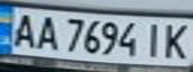4: (118, 19, 142, 57)
6: (78, 17, 103, 55)
7: (60, 15, 84, 53)
9: (100, 19, 121, 56)
A: (6, 10, 39, 48), (30, 12, 60, 51)
I: (139, 19, 169, 60)
K: (160, 20, 193, 61)
